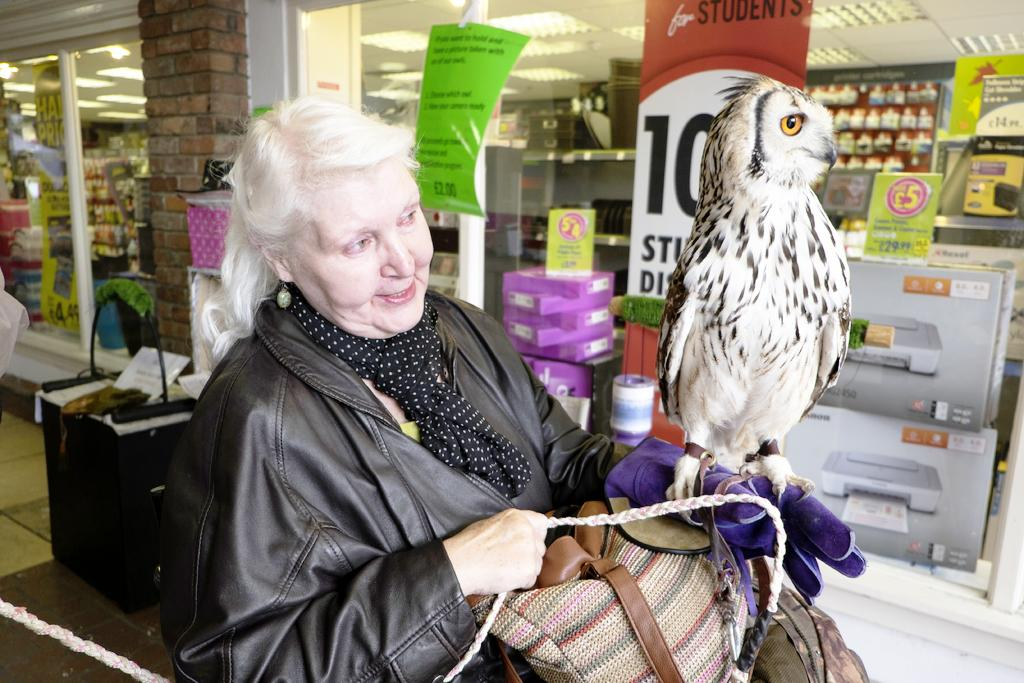Owl: (651, 67, 853, 517)
